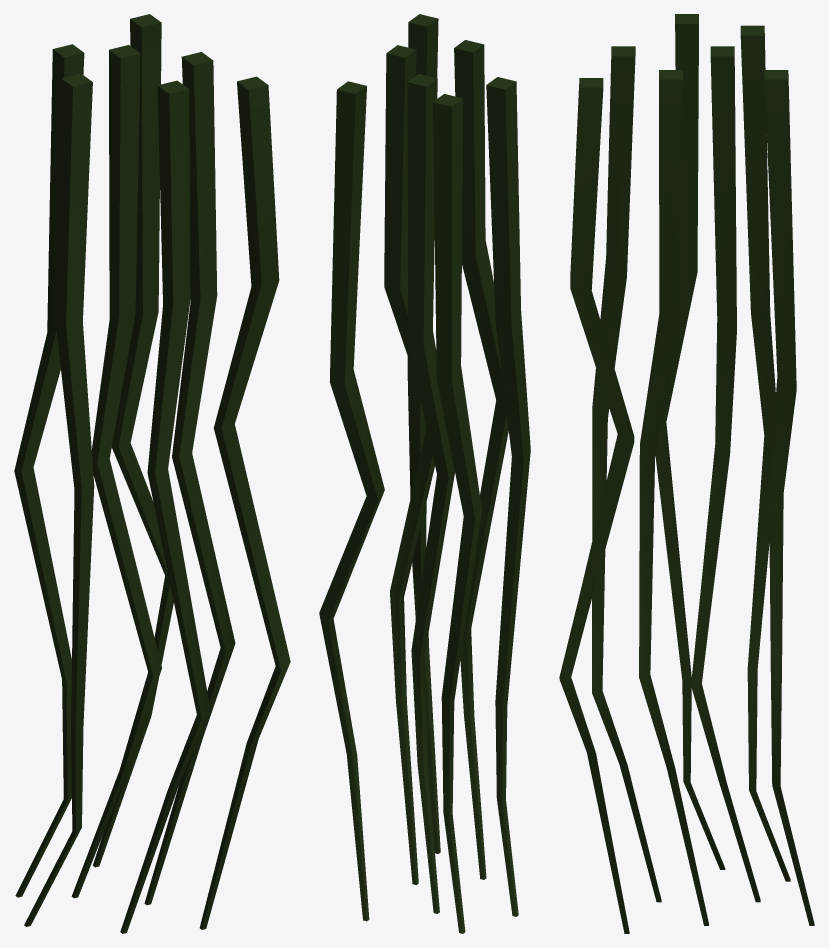
File: straightVines.fbx
3 renders of one model, left to right at view 1: azimuth 30°, elevation 25°; view 2: azimuth 150°, elevation 25°; view 3: azimuth 270°, elevation 25°, orthographic. The views are drawn at different scales.
Visible parts, largest first — view 1: Rigel_Vines_Two:pCube3, Rigel_Vines_Two:pCube4, Rigel_Vines_Two:pCube5, Rigel_Vines_Two:pCube2, Rigel_Vines_Two:pCube6, Rigel_Vines_Two:pCube7, Rigel_Vines_Two:pCube1; view 2: Rigel_Vines_Two:pCube1, Rigel_Vines_Two:pCube7, Rigel_Vines_Two:pCube4, Rigel_Vines_Two:pCube5, Rigel_Vines_Two:pCube3, Rigel_Vines_Two:pCube6, Rigel_Vines_Two:pCube2; view 3: Rigel_Vines_Two:pCube2, Rigel_Vines_Two:pCube6, Rigel_Vines_Two:pCube5, Rigel_Vines_Two:pCube7, Rigel_Vines_Two:pCube1, Rigel_Vines_Two:pCube3, Rigel_Vines_Two:pCube4.
Part boxes in pixels (<box>): Rigel_Vines_Two:pCube3: <box>120,80,210,933</box>; Rigel_Vines_Two:pCube4: <box>24,73,94,926</box>; Rigel_Vines_Two:pCube5: <box>71,45,161,898</box>; Rigel_Vines_Two:pCube2: <box>199,76,290,929</box>; Rigel_Vines_Two:pCube6: <box>144,52,235,905</box>; Rigel_Vines_Two:pCube7: <box>93,14,173,867</box>; Rigel_Vines_Two:pCube1: <box>14,44,84,897</box>; Rigel_Vines_Two:pCube1: <box>433,94,481,933</box>; Rigel_Vines_Two:pCube7: <box>319,81,384,921</box>; Rigel_Vines_Two:pCube4: <box>486,77,530,916</box>; Rigel_Vines_Two:pCube5: <box>407,74,454,913</box>; Rigel_Vines_Two:pCube3: <box>454,40,508,879</box>; Rigel_Vines_Two:pCube6: <box>384,45,434,884</box>; Rigel_Vines_Two:pCube2: <box>407,14,440,853</box>; Rigel_Vines_Two:pCube2: <box>559,78,634,933</box>; Rigel_Vines_Two:pCube6: <box>639,70,708,925</box>; Rigel_Vines_Two:pCube5: <box>691,46,760,902</box>; Rigel_Vines_Two:pCube7: <box>764,70,814,925</box>; Rigel_Vines_Two:pCube1: <box>740,25,790,881</box>; Rigel_Vines_Two:pCube3: <box>592,46,661,902</box>; Rigel_Vines_Two:pCube4: <box>655,14,725,869</box>.
Size of the model in its own units: 22.48 by 98.56 by 26.3.
